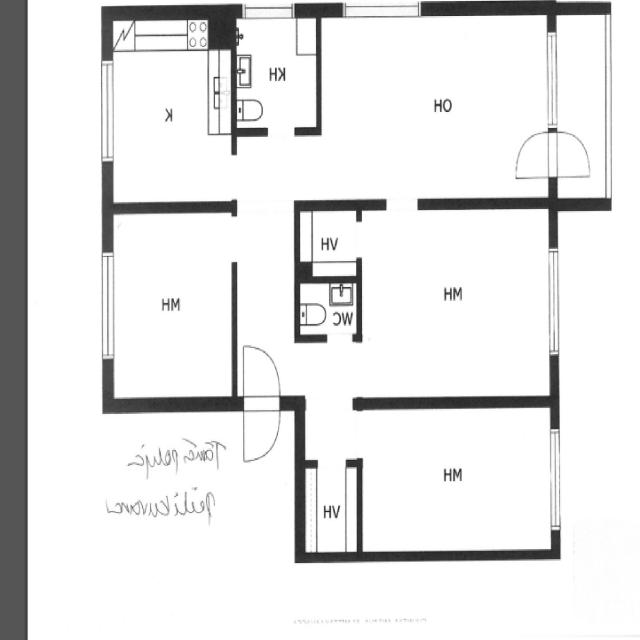door: (238, 338, 284, 466), (506, 128, 597, 181)
window: (298, 205, 360, 279), (296, 276, 360, 338), (541, 238, 566, 363), (96, 240, 119, 372), (95, 54, 119, 172), (544, 418, 568, 536), (541, 23, 565, 132), (337, 1, 426, 21), (241, 1, 300, 20), (379, 194, 425, 215), (229, 210, 240, 268)
zone: (318, 9, 557, 202), (356, 206, 557, 402), (356, 401, 558, 557), (105, 12, 235, 208), (107, 208, 233, 404), (232, 10, 320, 132), (303, 465, 359, 556), (296, 207, 361, 278), (296, 277, 360, 336)
